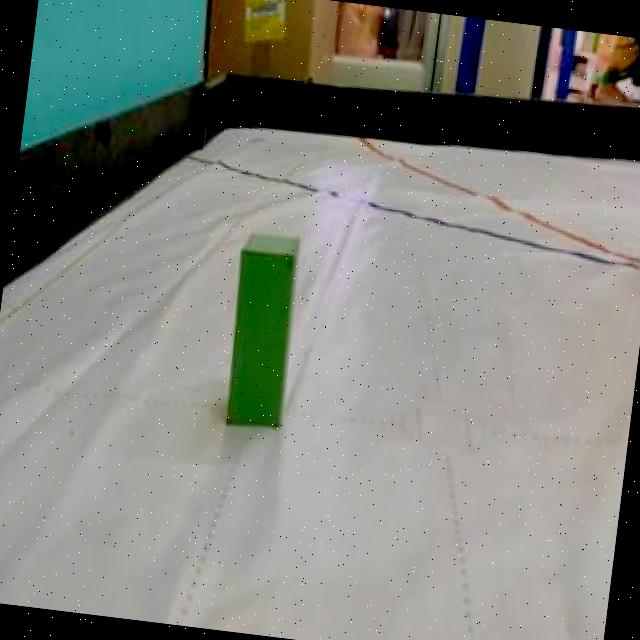greenbox: (217, 227, 304, 431)
